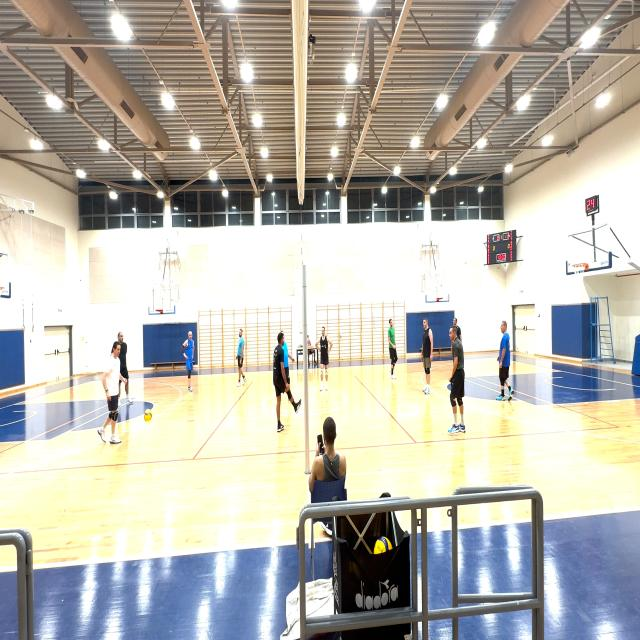volleyball: (373, 536, 393, 555), (144, 410, 152, 422)
